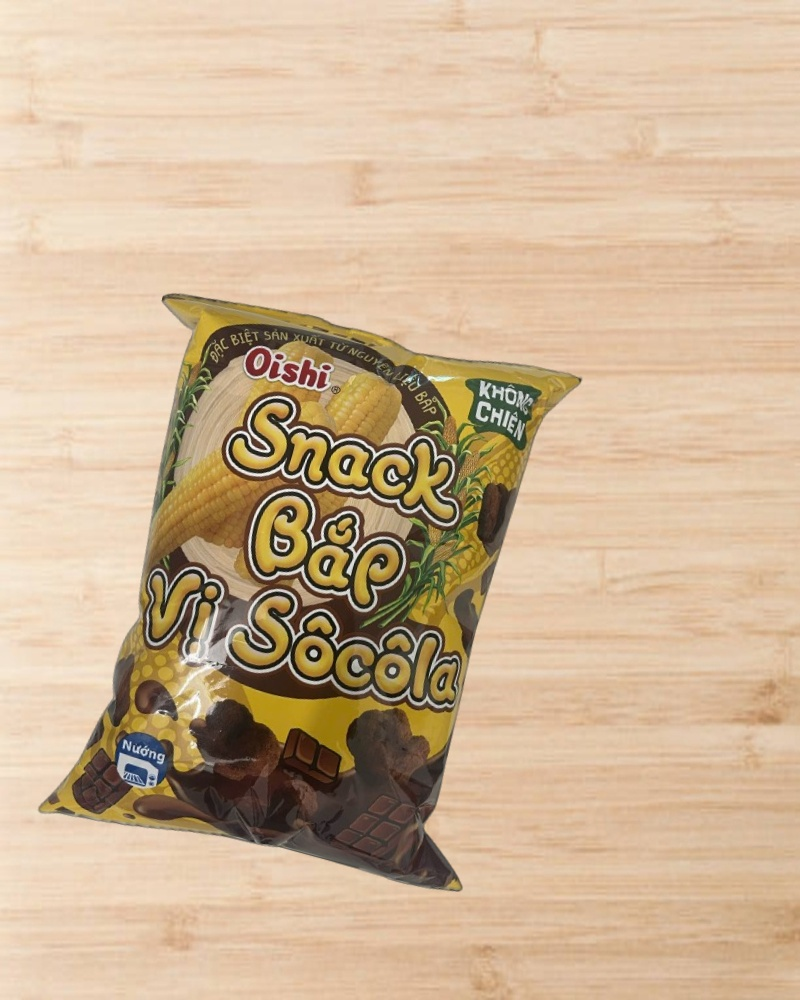Snack socola: (31, 272, 597, 912)
